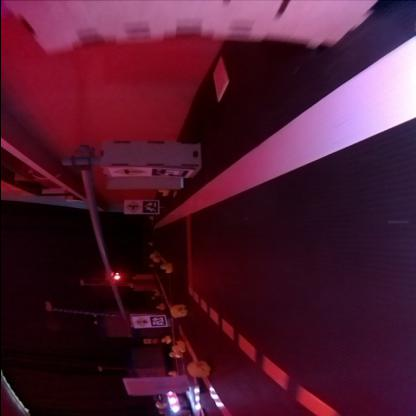Duckie: (186, 362, 208, 378), (170, 306, 186, 317), (170, 342, 180, 352), (160, 264, 168, 274), (168, 353, 180, 359), (160, 338, 170, 344), (157, 191, 167, 196), (166, 372, 174, 378), (150, 258, 158, 264), (155, 306, 163, 310)
Intersection sign: (112, 168, 146, 178), (122, 202, 140, 214)
QR code: (149, 170, 188, 178), (140, 202, 156, 214), (149, 316, 163, 328)
Signal sign: (132, 319, 146, 329)
Traffic light: (106, 272, 120, 282)
